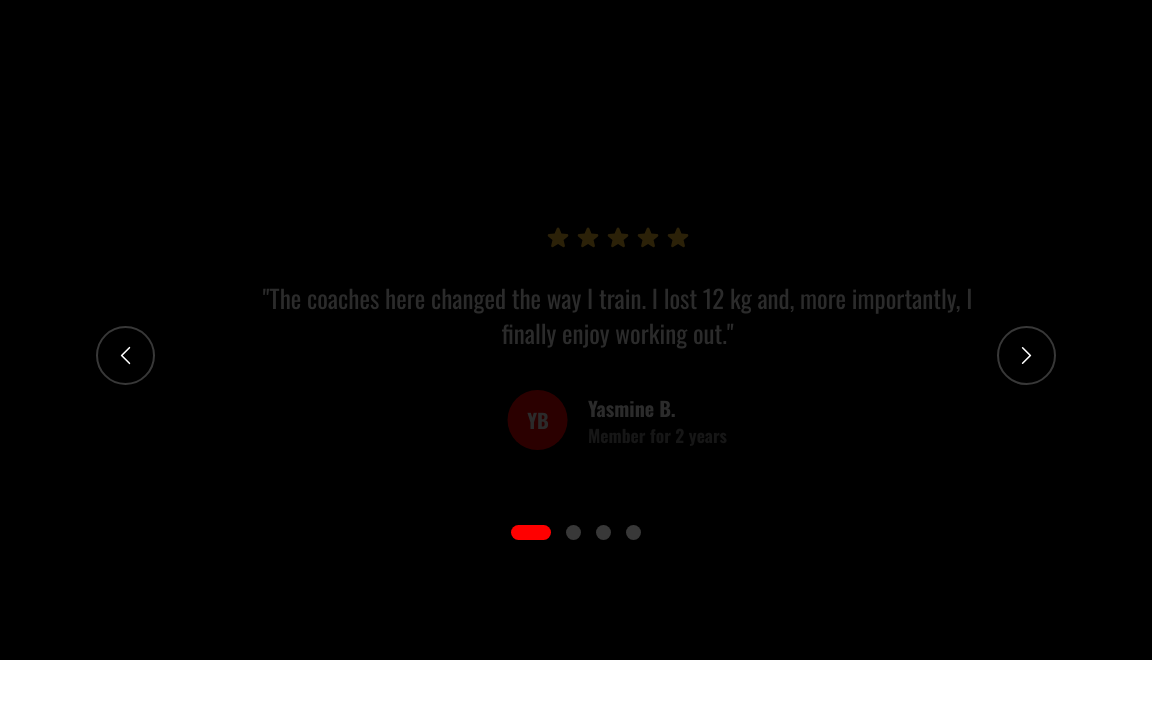
testimonials › navigates with the arrows and wraps around
Expected: the text "Yasmine B." is shown, [588,392,676,422]
Click the button named "Previous testimonial" at (126, 355), box [96,326,155,384]
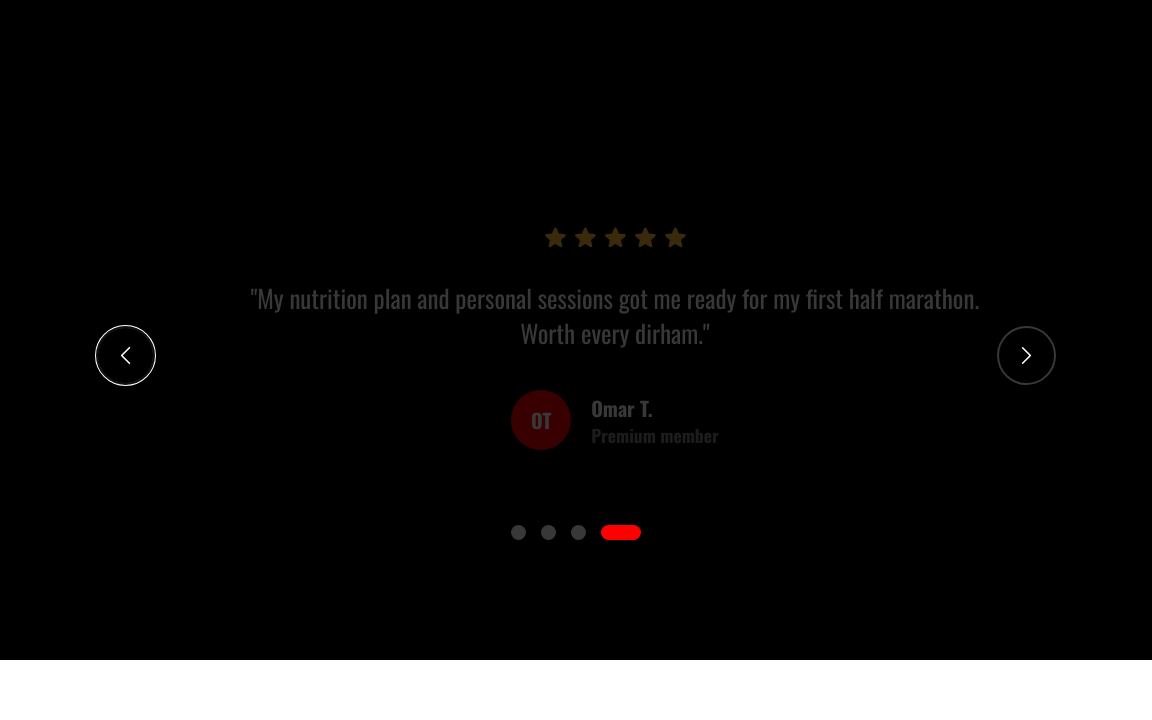
Expected: the text "Omar T." is shown, [591,392,652,422]
Click the button named "Next testimonial" at (1026, 355), box [997,326,1056,384]
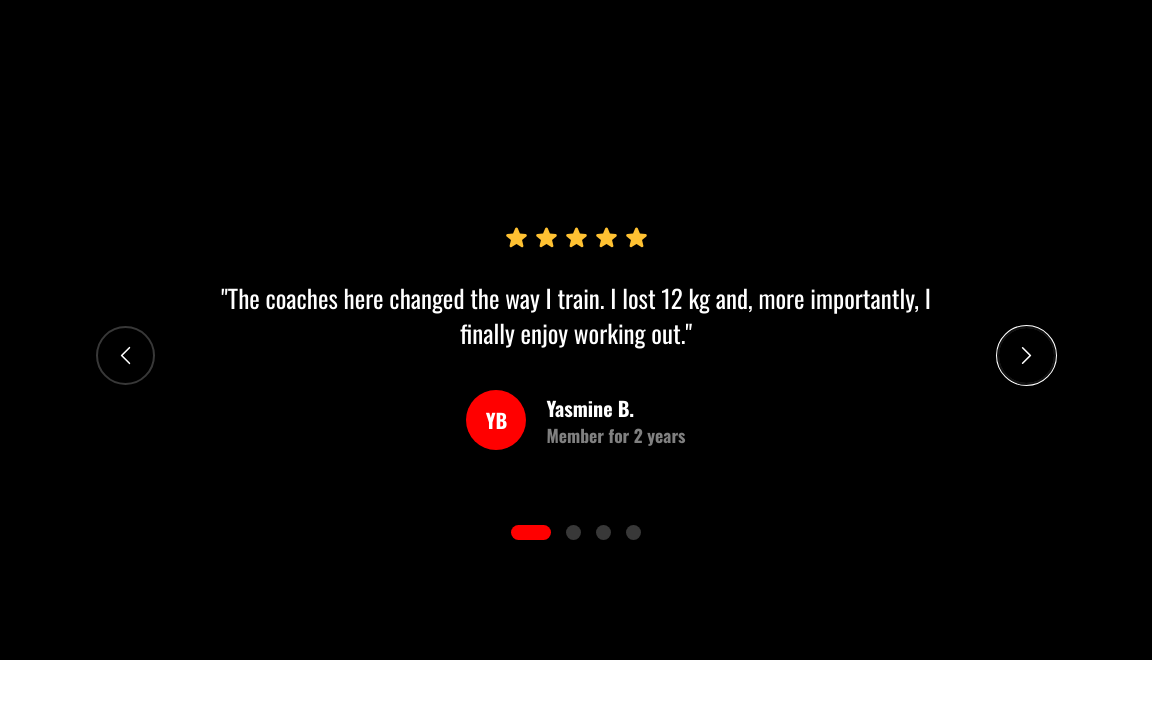
Expected: the text "Yasmine B." is shown, [546,392,634,422]
